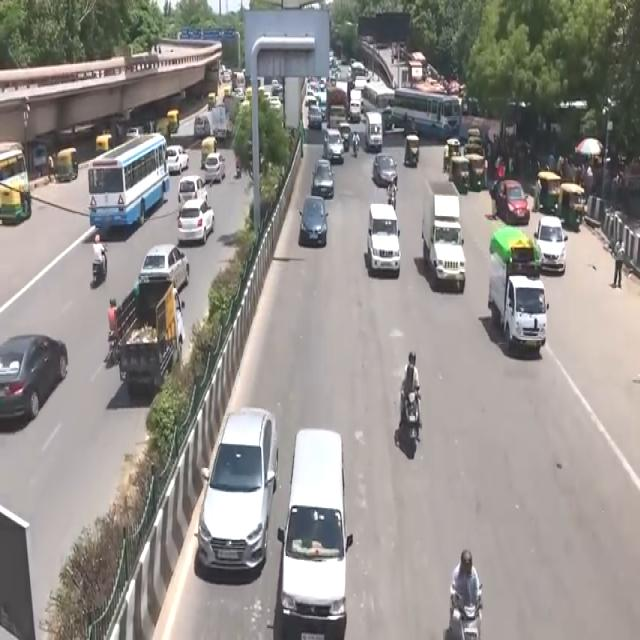BUS: (89, 136, 171, 238), (393, 83, 461, 137)
MOTORCYCLE: (404, 390, 424, 461), (455, 602, 485, 640)
TRUCK: (493, 231, 551, 357), (120, 286, 182, 396)
